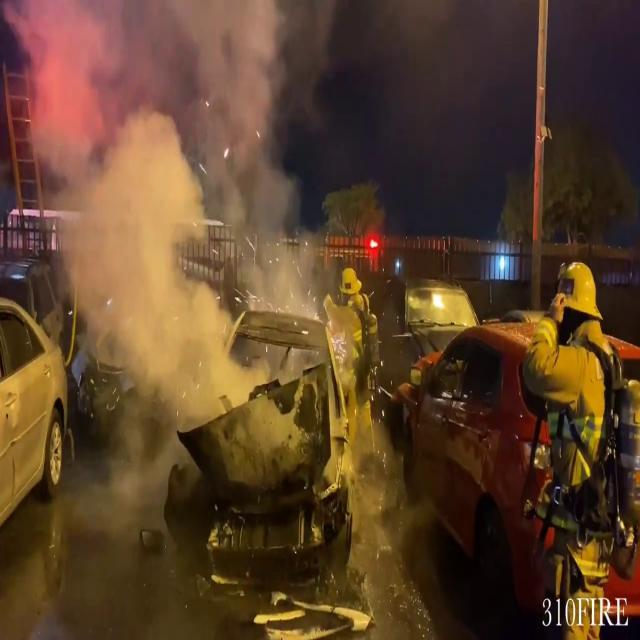Smoke: (13, 0, 327, 350)
